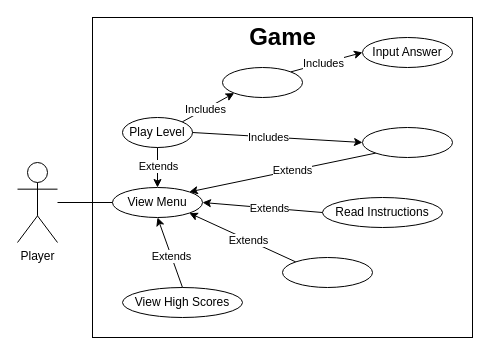
Image size: 490x355. Some labels were removed from this diagram. Here are the shapes that lost their labels. From the top down, the centre of each, then its label:
At point 262,82: "Fire Cannon".
At point 407,142: "Select Level".
At point 327,272: "Read About".
